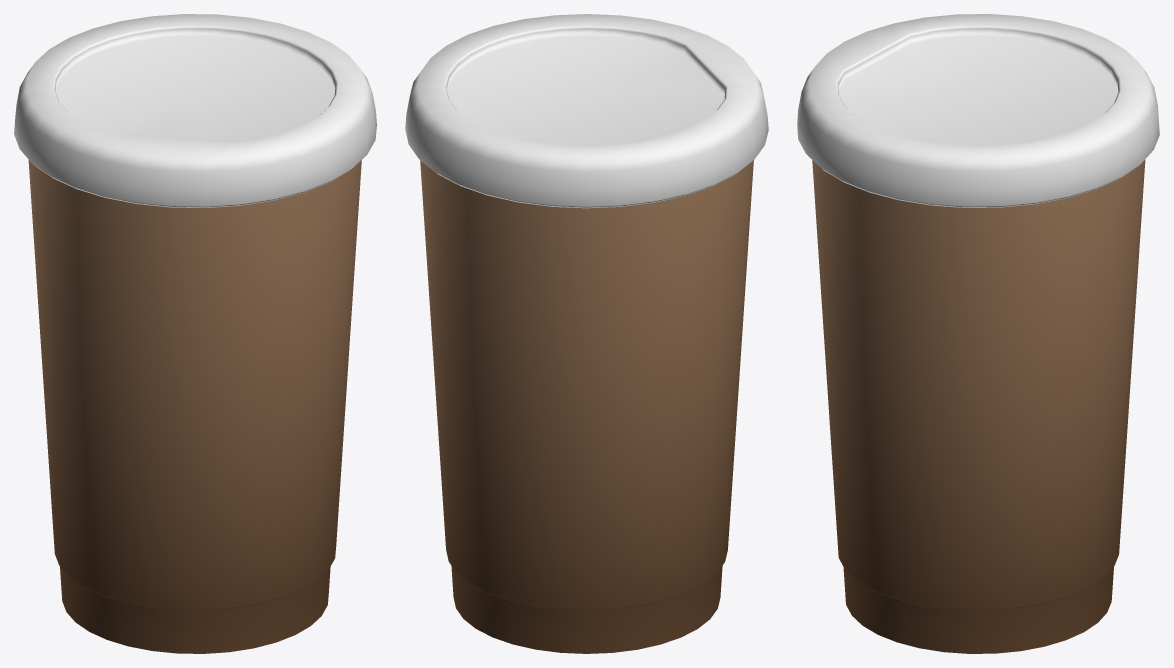
File: vaso_model.glb
3 renders of one model, left to right at view 1: azimuth 30°, elevation 25°; view 2: azimuth 150°, elevation 25°; view 3: azimuth 270°, elevation 25°, orthographic.
Parts seen in each view (by area): view 1: vaso; view 2: vaso; view 3: vaso.
Part boxes in pixels (x1,y1,x2,y2): vaso: (14,14,376,653); vaso: (405,14,768,653); vaso: (797,14,1159,653).
Bounding box in the file's own units: 0.1093 × 0.1703 × 0.1093.
1 material, 1 textured.
